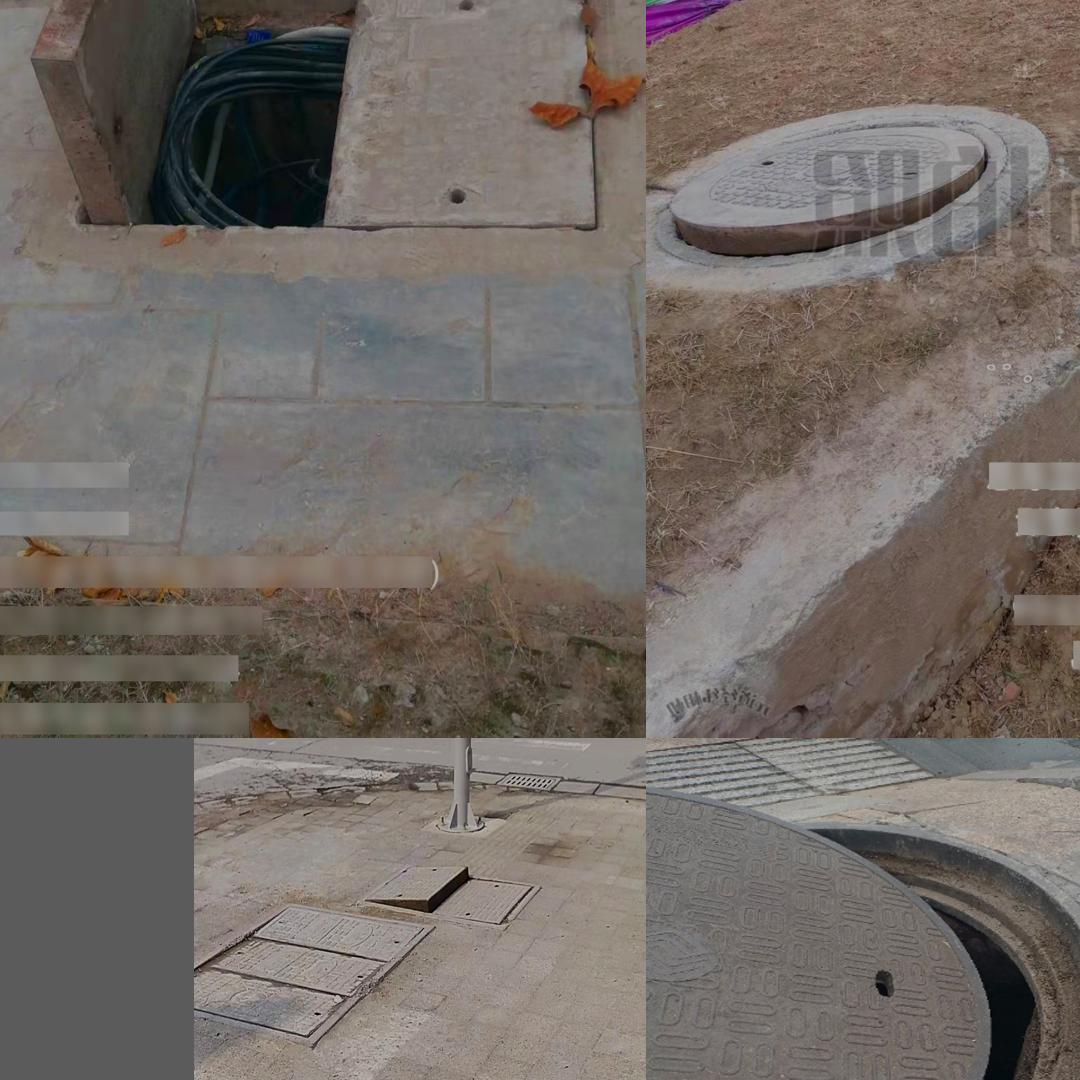good: (194, 904, 437, 1046)
uncovered: (35, 0, 598, 229), (647, 785, 1080, 1080), (653, 119, 1013, 270), (358, 866, 541, 933)
